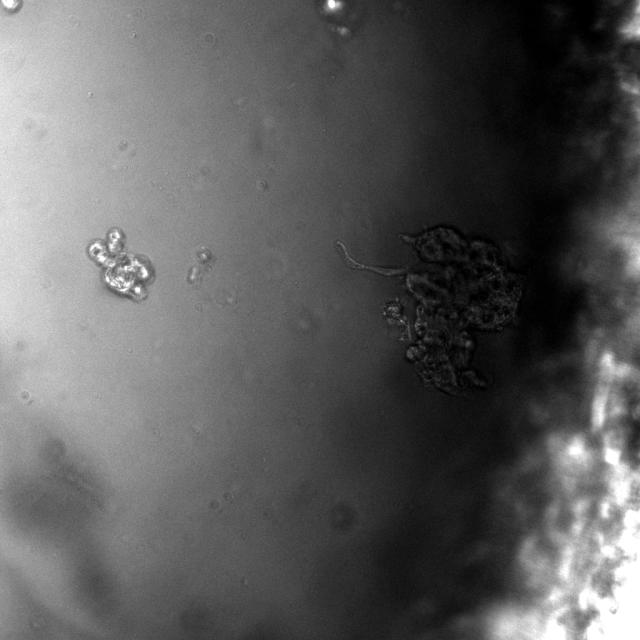organoid: (335, 226, 524, 395), (86, 227, 154, 301)
